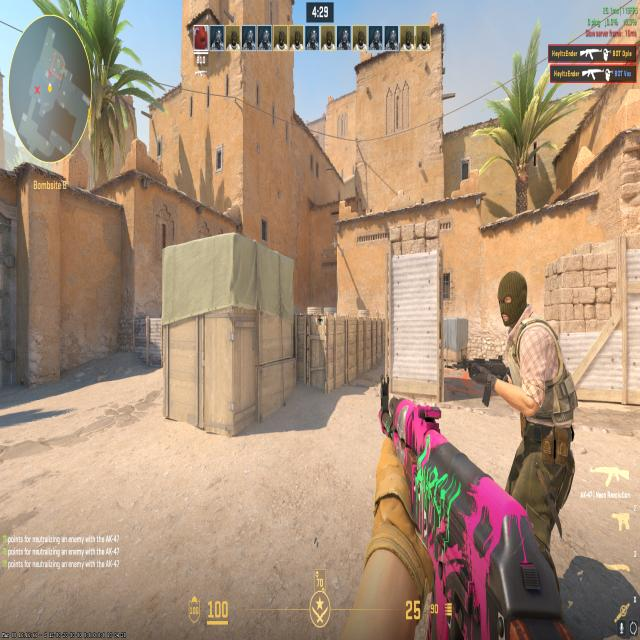t: (457, 257, 576, 535)
